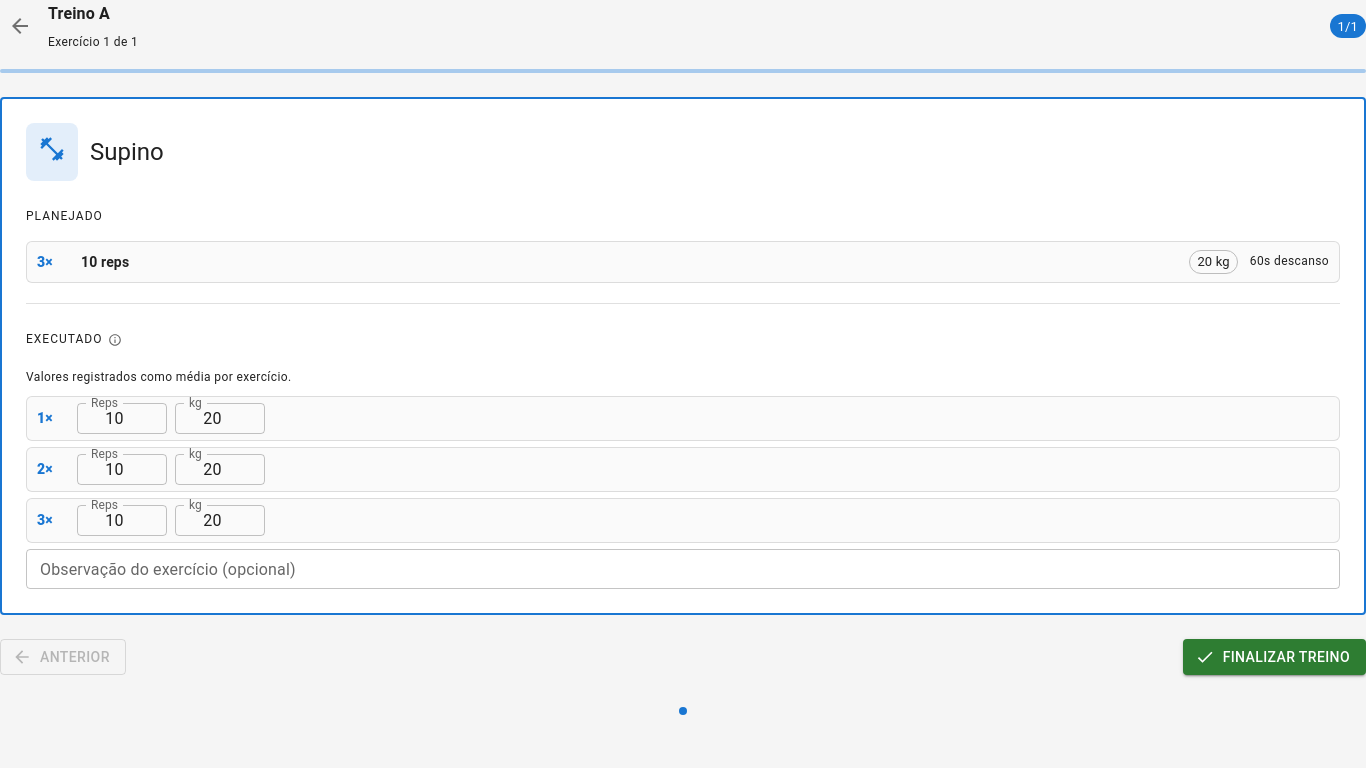
Scenario: ExecutarFichaPage — hint de agregação por exercício › registro sem treinador ativo (403) exibe mensagem clara de bloqueio
Check: the heading "Supino" is shown, box [90, 136, 164, 168]
Click the button "Finalizar treino": point(1274, 657) [1183, 639, 1365, 675]
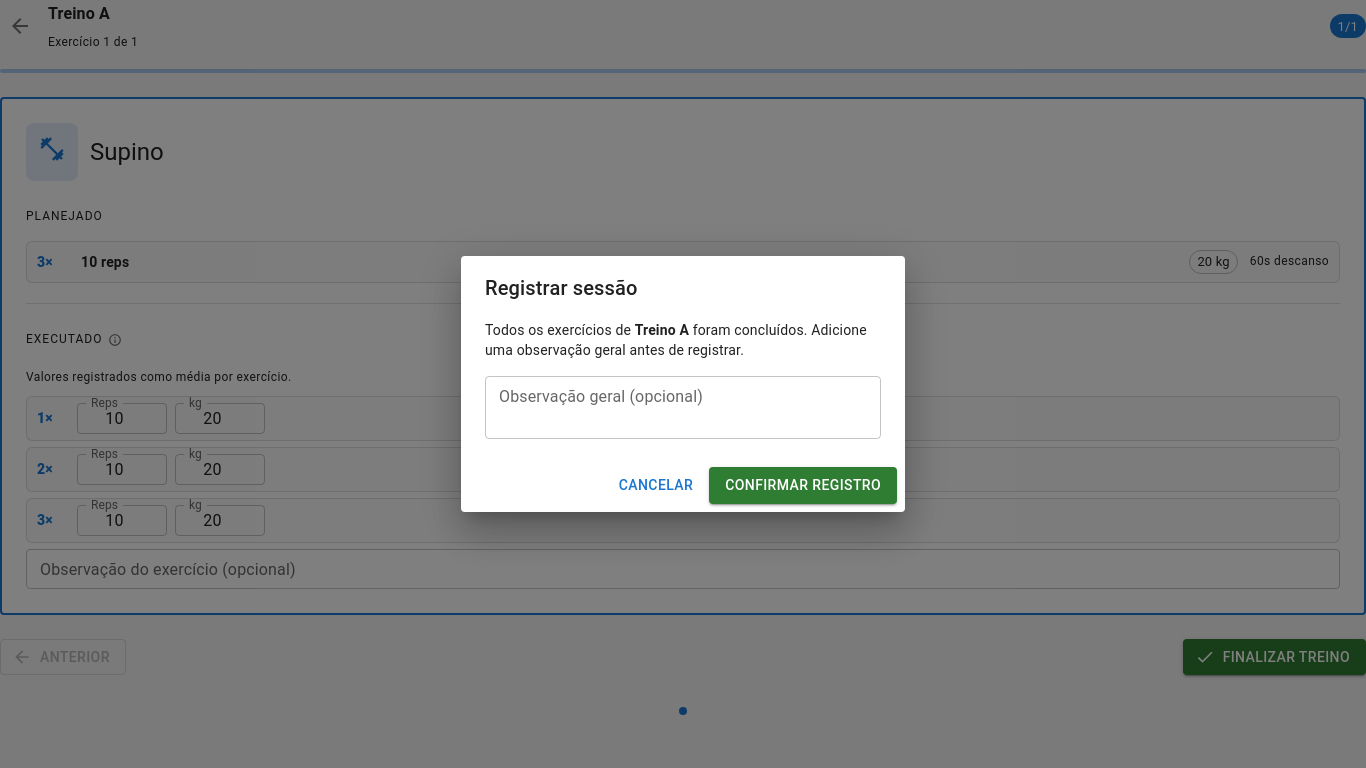
Click the button "Confirmar registro": point(803, 486) [709, 467, 897, 504]
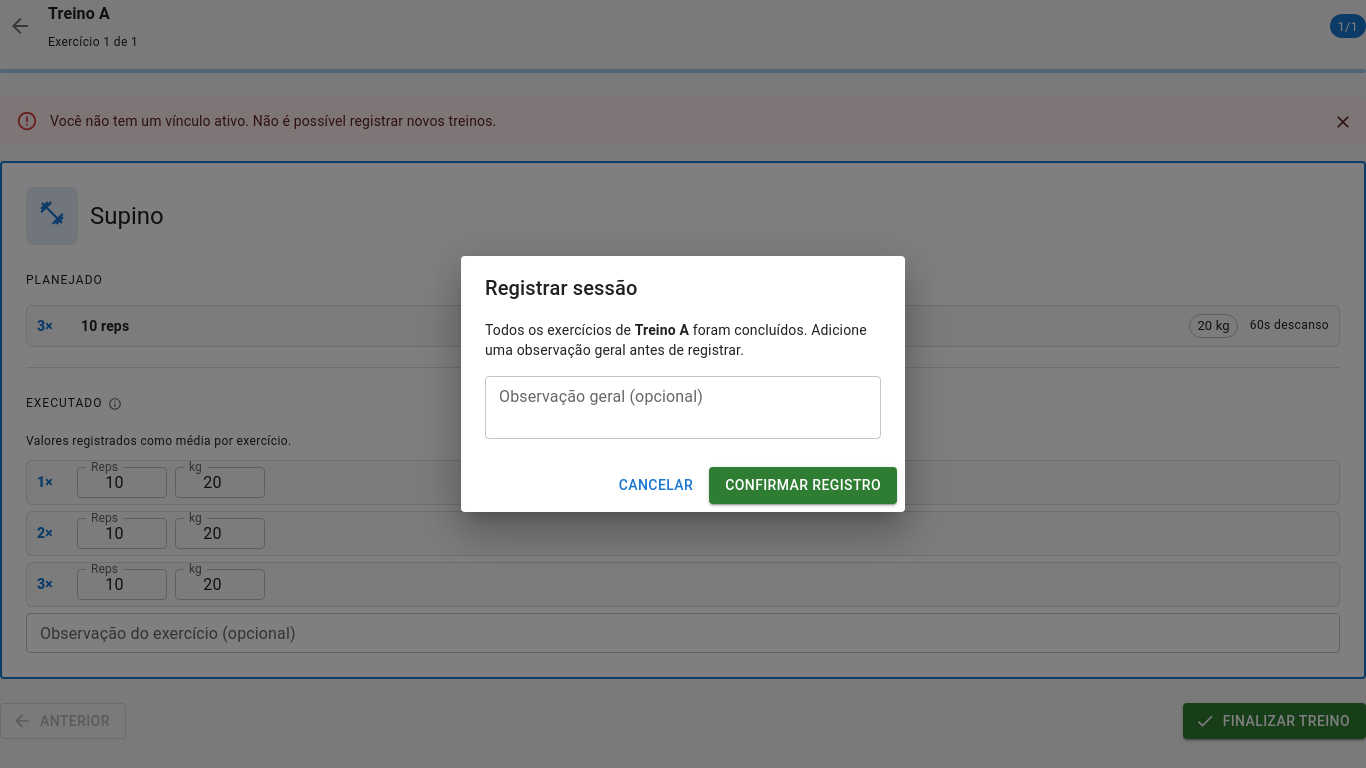
Check: the text "não tem um vínculo ativo" is shown, box [50, 113, 496, 129]
